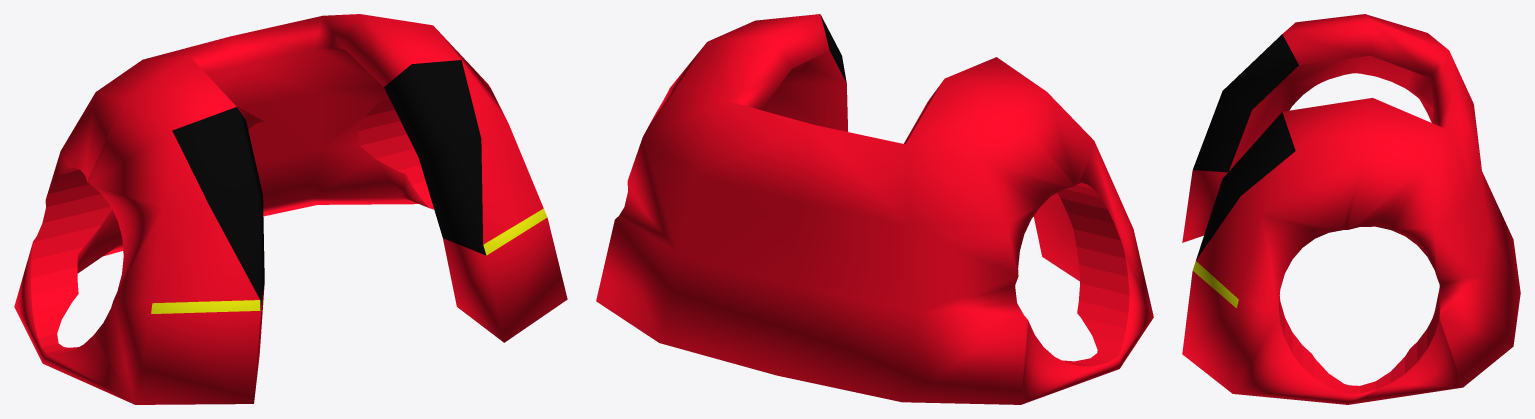
Rendered from Traje Alien.fbx.
The picture shows the model from 3 angles, left to right: view 1: azimuth 30°, elevation 25°; view 2: azimuth 150°, elevation 25°; view 3: azimuth 270°, elevation 25°; orthographic projection. The views are drawn at different scales.
Parts seen in each view (by area): view 1: Pies.002; view 2: Pies.002; view 3: Pies.002.
Boxes of the visible parts, x1,y1,x2,y2 form: Pies.002: [14, 14, 567, 404]; Pies.002: [596, 14, 1153, 404]; Pies.002: [1182, 14, 1520, 404].
Bounding box in the file's own units: 82.08 × 53.77 × 41.87.
